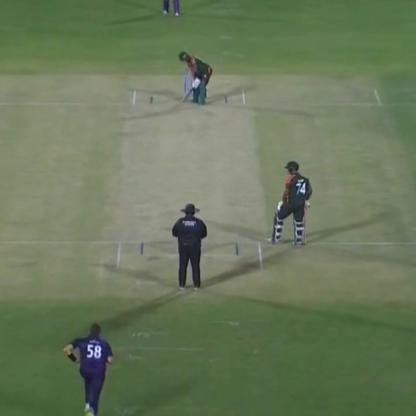bat: (174, 73, 203, 107)
pitch: (108, 85, 268, 286)
